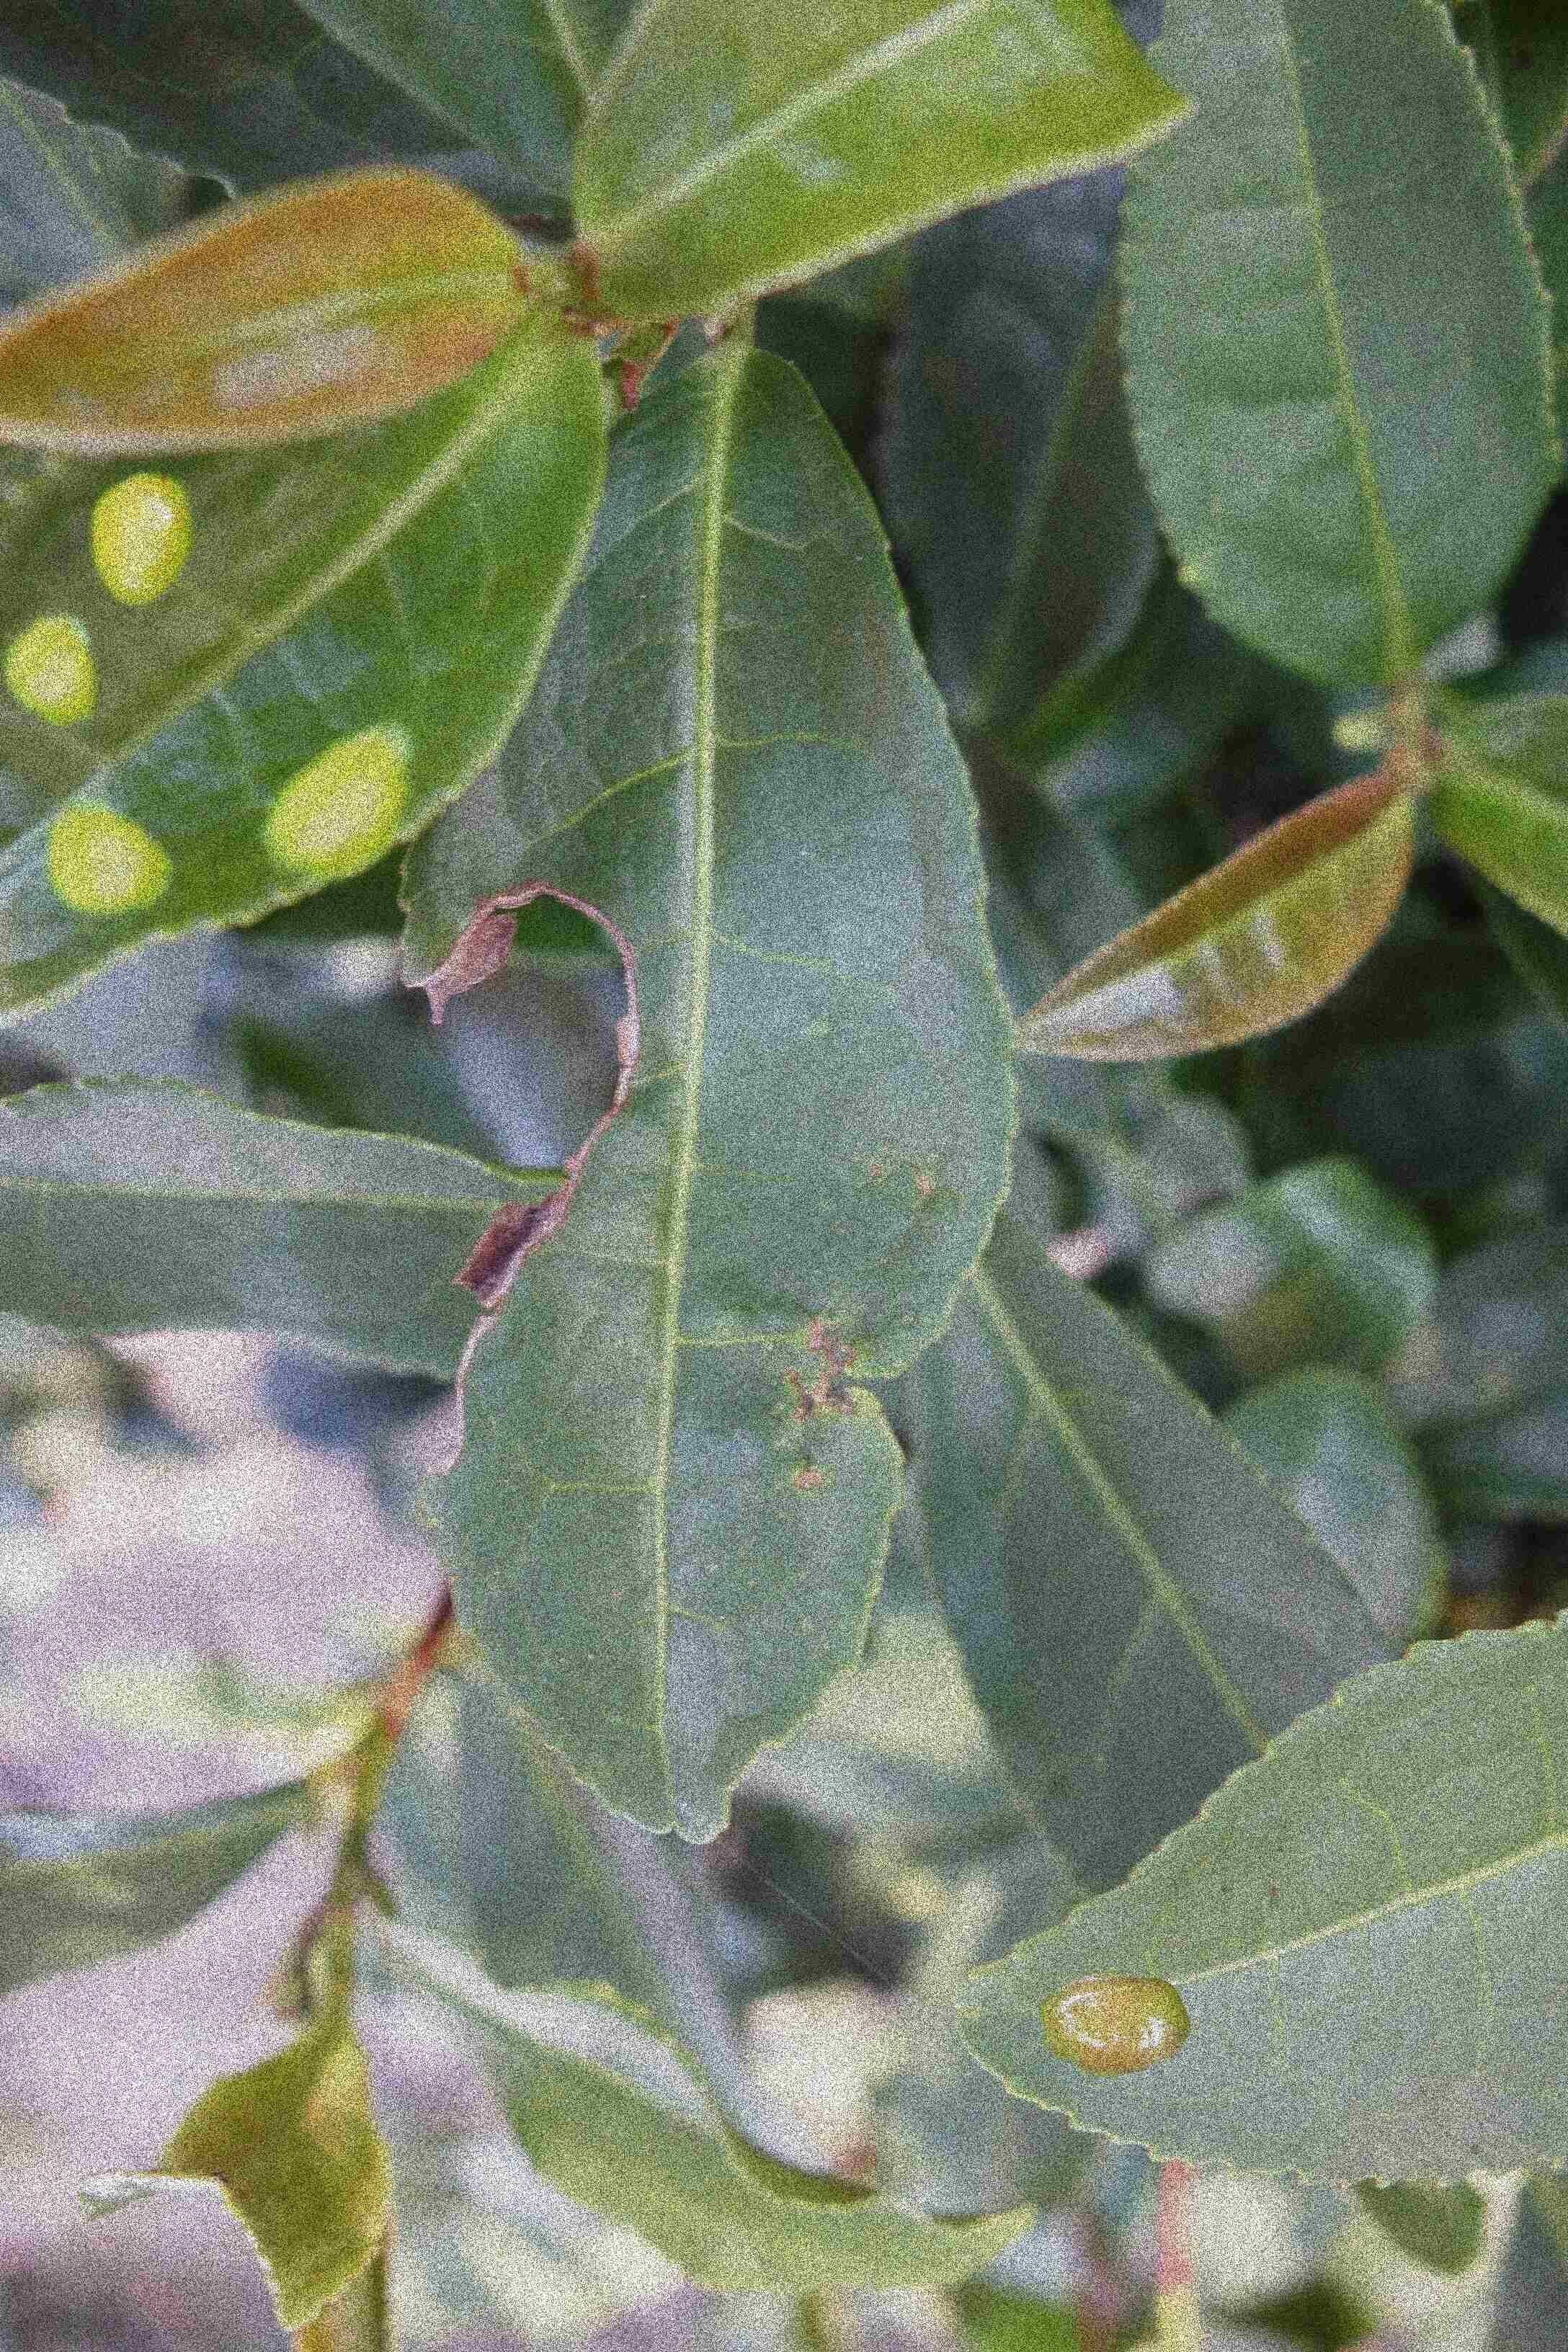chabing_high: (9, 329, 609, 1025)
chabing_low: (950, 1617, 1564, 2198)
chihuo_high: (399, 341, 1015, 1853)
tanju_low: (7, 170, 537, 453), (1015, 761, 1424, 1060)
